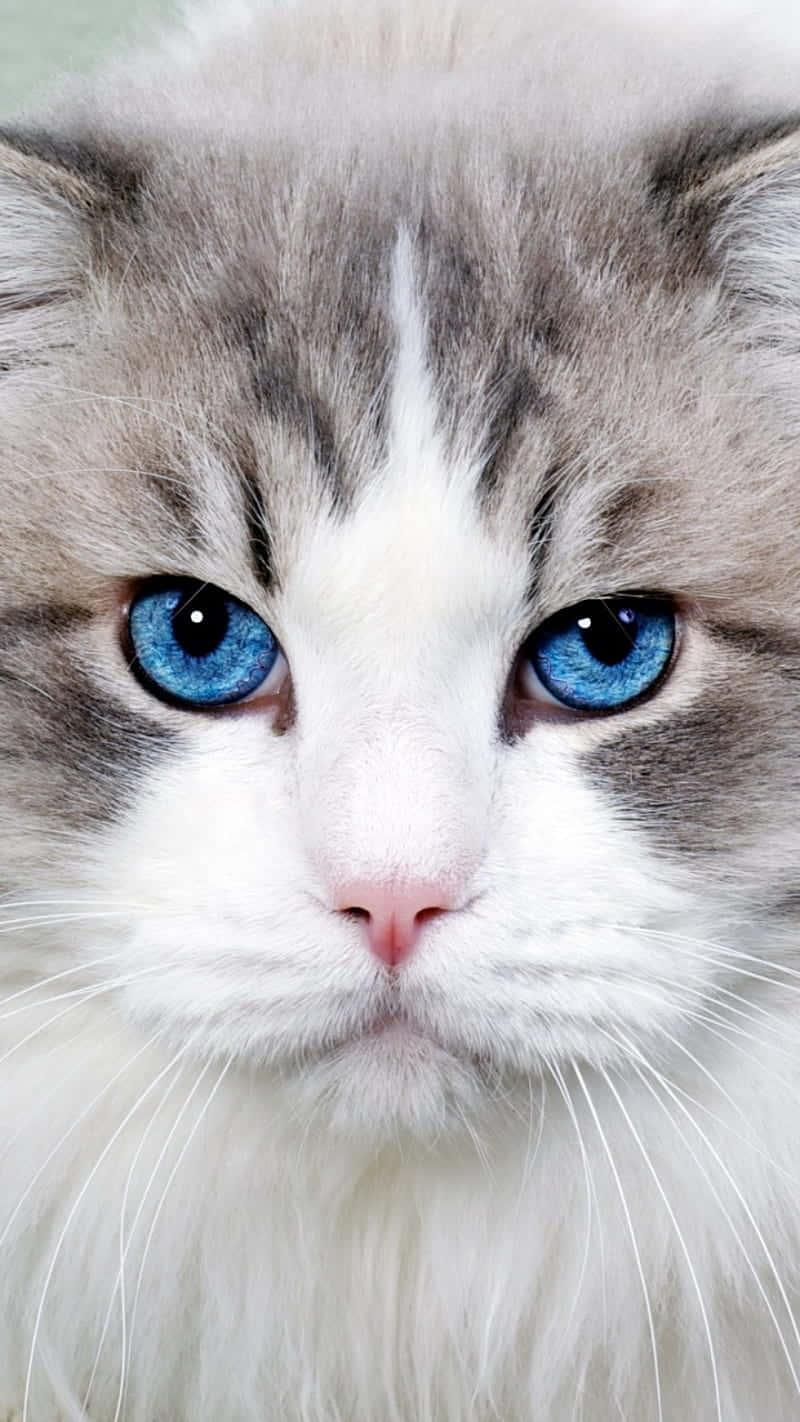ragdoll: (1, 143, 800, 1119)
